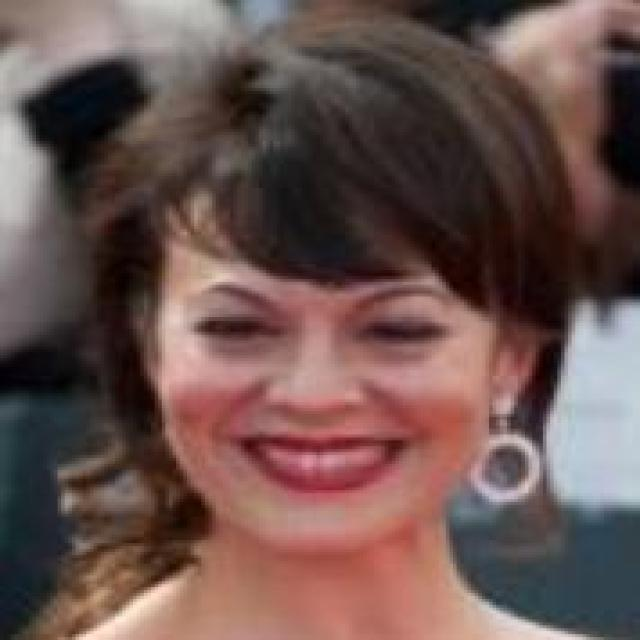bareface: (168, 26, 511, 532)
